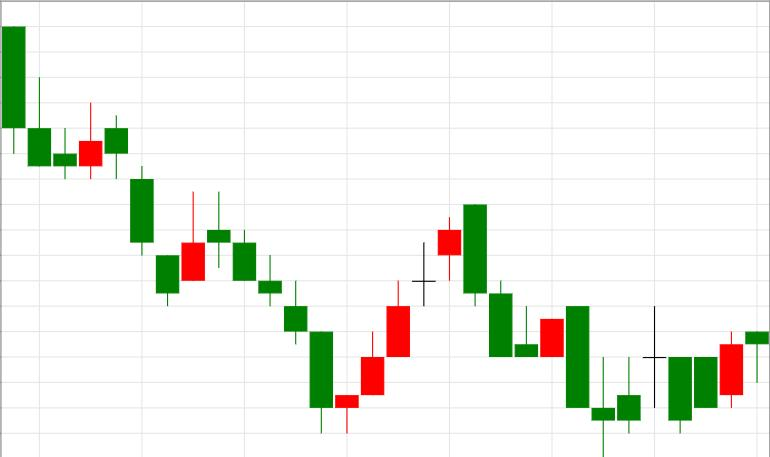bearish_engulfing_fall: (335, 204, 487, 434)
